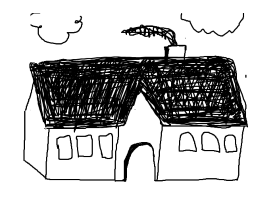clouds: (24, 6, 88, 48), (179, 9, 251, 38)
door: (117, 135, 164, 187)
open_window: (174, 129, 199, 157), (198, 128, 223, 154), (54, 132, 75, 162), (96, 130, 116, 159), (75, 132, 95, 158), (222, 132, 241, 155)
shaded_roof: (26, 53, 251, 129)
smoking_chimney: (116, 17, 192, 66)
wall: (41, 122, 248, 185)
